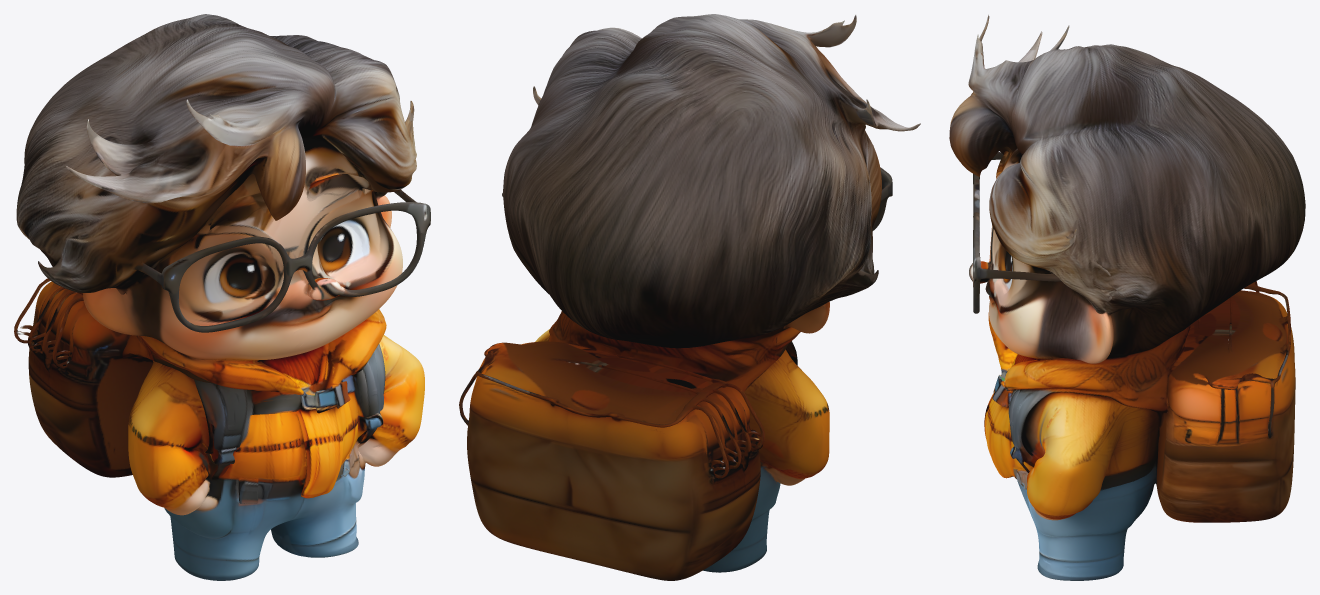
Rendered from male-avatar7.glb.
3 views of the same model, side by side, from view 1: azimuth 30°, elevation 25°; view 2: azimuth 150°, elevation 25°; view 3: azimuth 270°, elevation 25° (orthographic). The views are drawn at different scales.
Visible parts, largest first — view 1: model; view 2: model; view 3: model.
Boxes of the visible parts, <box> form: model: <box>14,14,430,580</box>; model: <box>459,14,920,580</box>; model: <box>949,14,1305,580</box>.
Bounding box in the file's own units: 1.42 × 1.9 × 1.29.
Materials: 1 (1 with a texture image).
